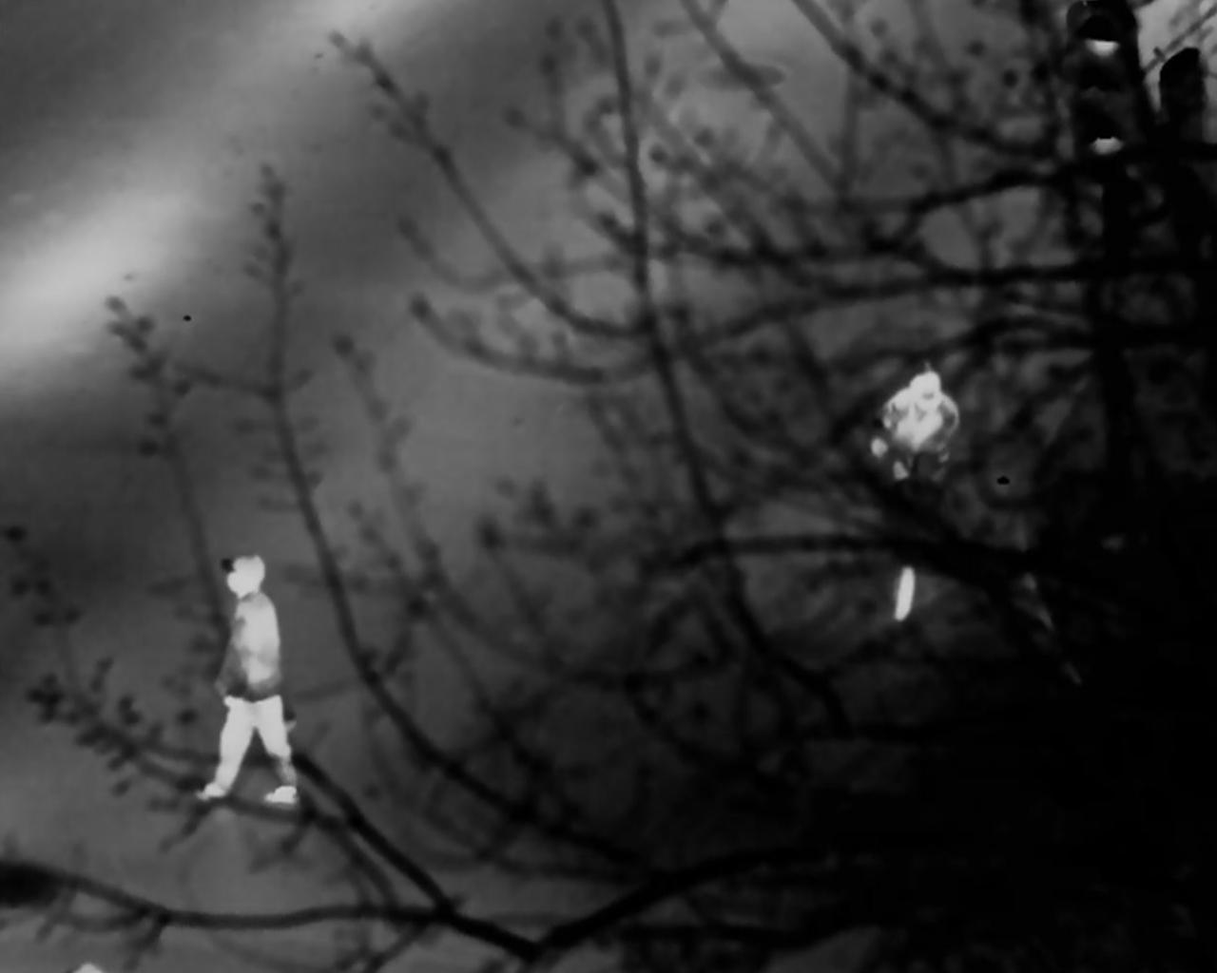person: (198, 554, 307, 806), (872, 364, 962, 620)
